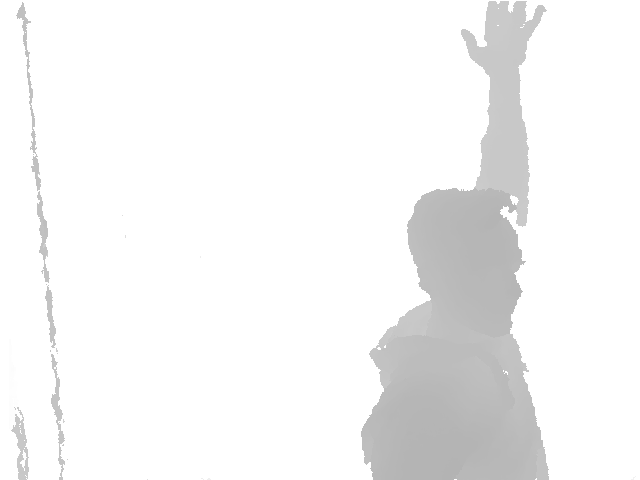hand: (461, 1, 547, 73)
head: (407, 188, 525, 335)
person: (360, 1, 551, 480)
